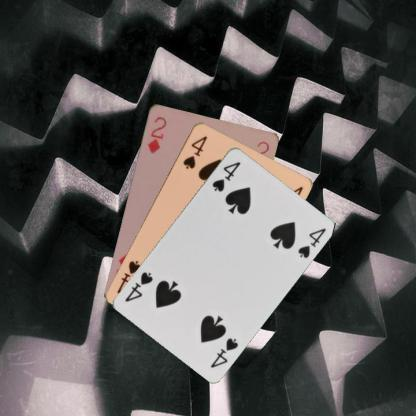2d: (144, 114, 168, 155)
4s: (209, 158, 242, 193), (207, 335, 240, 369), (180, 133, 209, 170)
